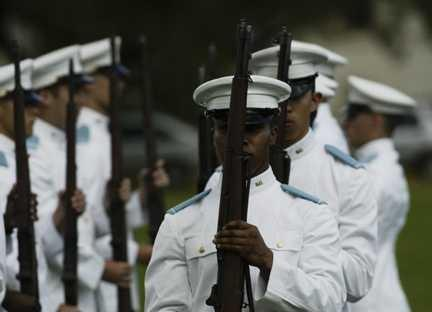heavyweapon: (191, 18, 262, 312)
